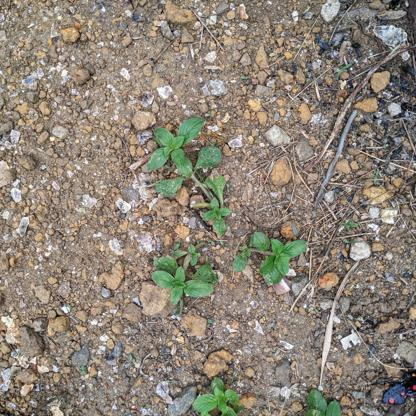weed: (142, 114, 236, 235), (231, 230, 308, 286), (149, 243, 216, 307), (190, 375, 240, 416), (301, 388, 347, 416)
